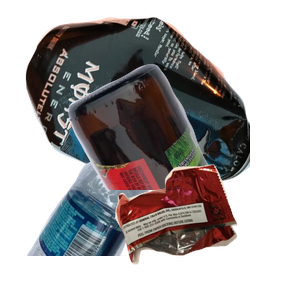glass: (66, 61, 300, 241)
metal: (23, 15, 263, 195)
plastic: (24, 120, 182, 300)
trash: (113, 162, 300, 300)
